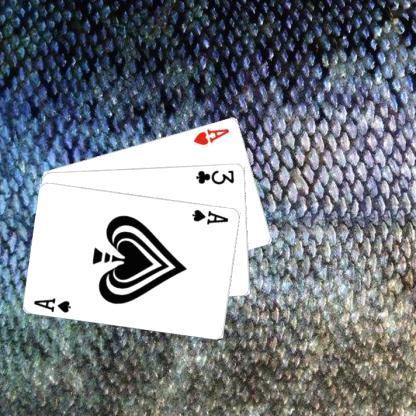3C: (194, 167, 235, 185)
AH: (191, 126, 231, 146)
AS: (32, 295, 72, 314), (190, 207, 230, 225)
